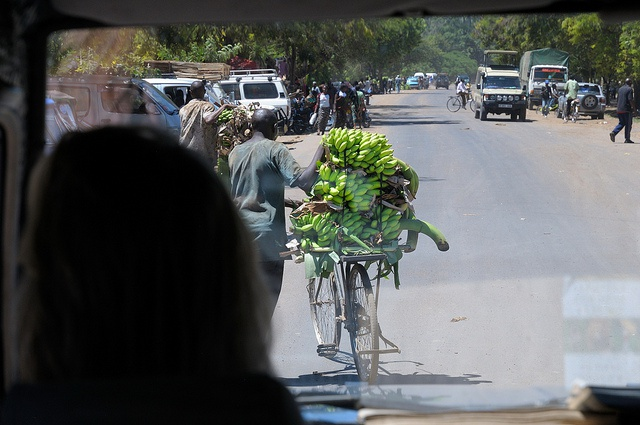non-vehicle: (308, 255, 403, 385), (447, 88, 475, 112), (562, 103, 578, 123)
